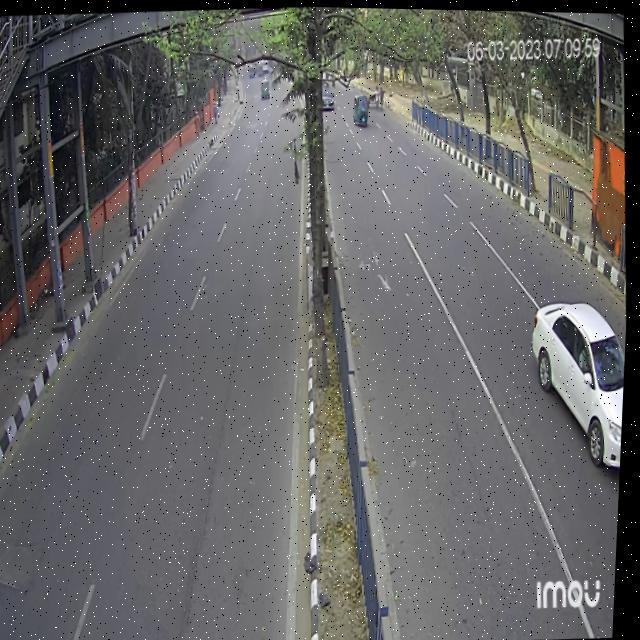cng: (350, 90, 372, 128), (259, 73, 273, 102)
